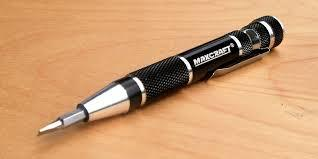screwdriver: (75, 13, 287, 123), (76, 14, 288, 123), (34, 102, 91, 136)
